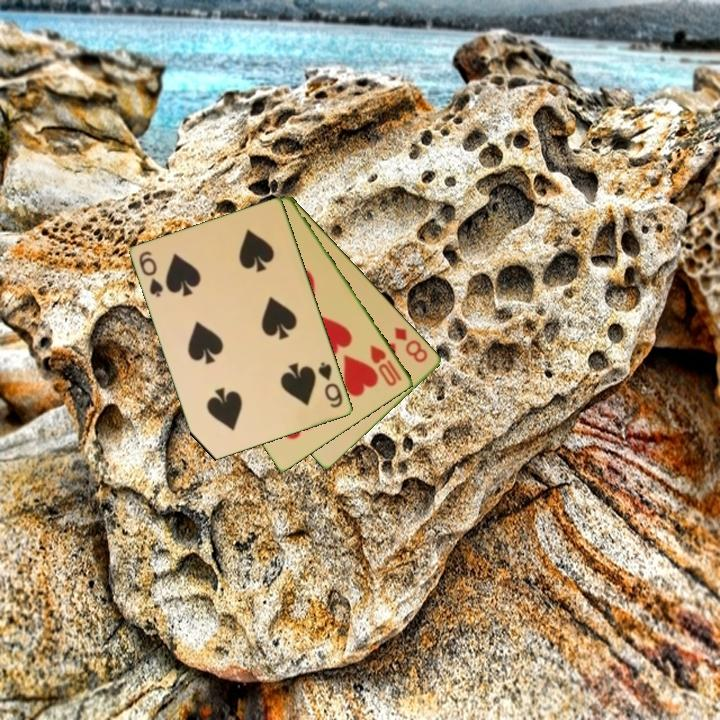10h: (367, 342, 405, 389)
6s: (315, 358, 346, 411), (136, 248, 167, 300)
8d: (391, 323, 431, 366)
